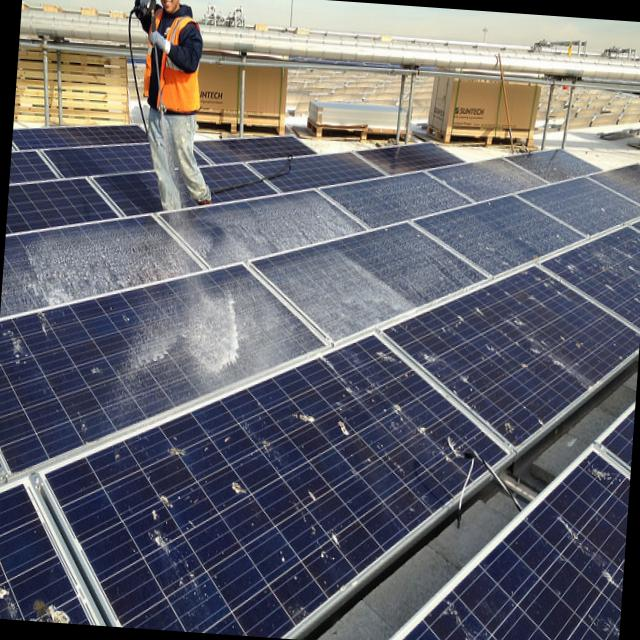faulty: (0, 163, 640, 476), (42, 326, 511, 638), (1, 151, 588, 314), (394, 259, 639, 448), (399, 446, 631, 640), (0, 487, 96, 625), (545, 219, 640, 331)
